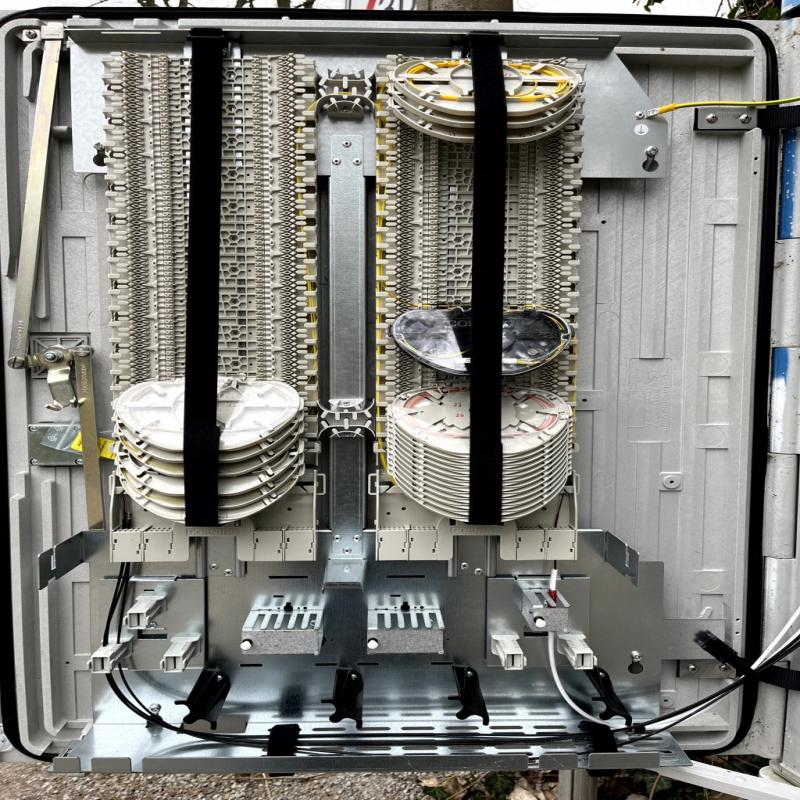NT-Gehause: (2, 0, 799, 777)
Spleiskassetten: (98, 35, 325, 559), (372, 32, 584, 572)
